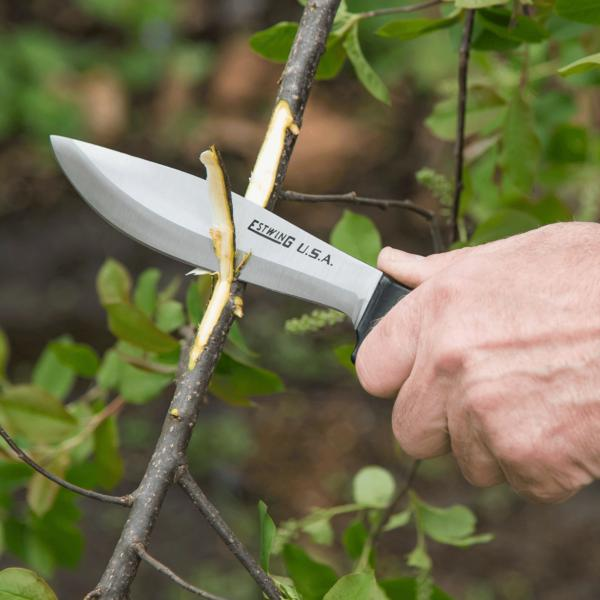Knife: (355, 222, 600, 502), (355, 221, 600, 498), (49, 132, 375, 334)
